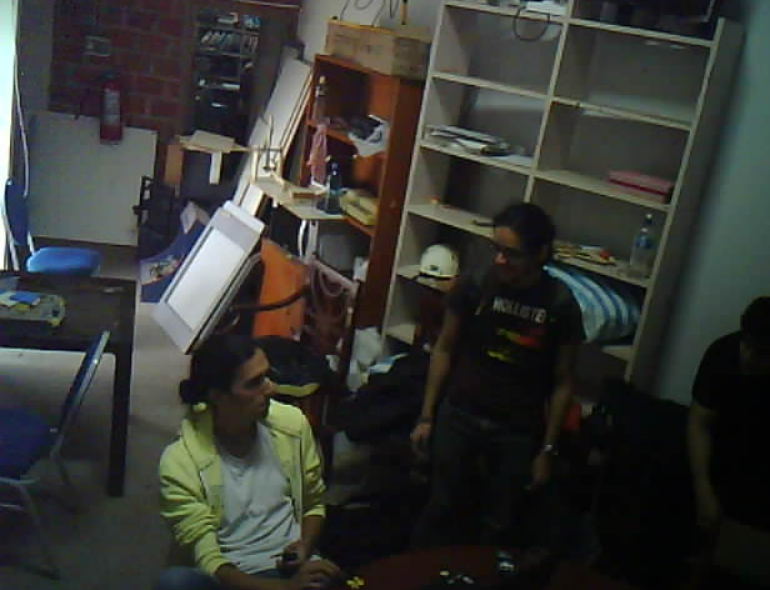person: (128, 323, 389, 590), (421, 169, 582, 558), (683, 265, 770, 590)
